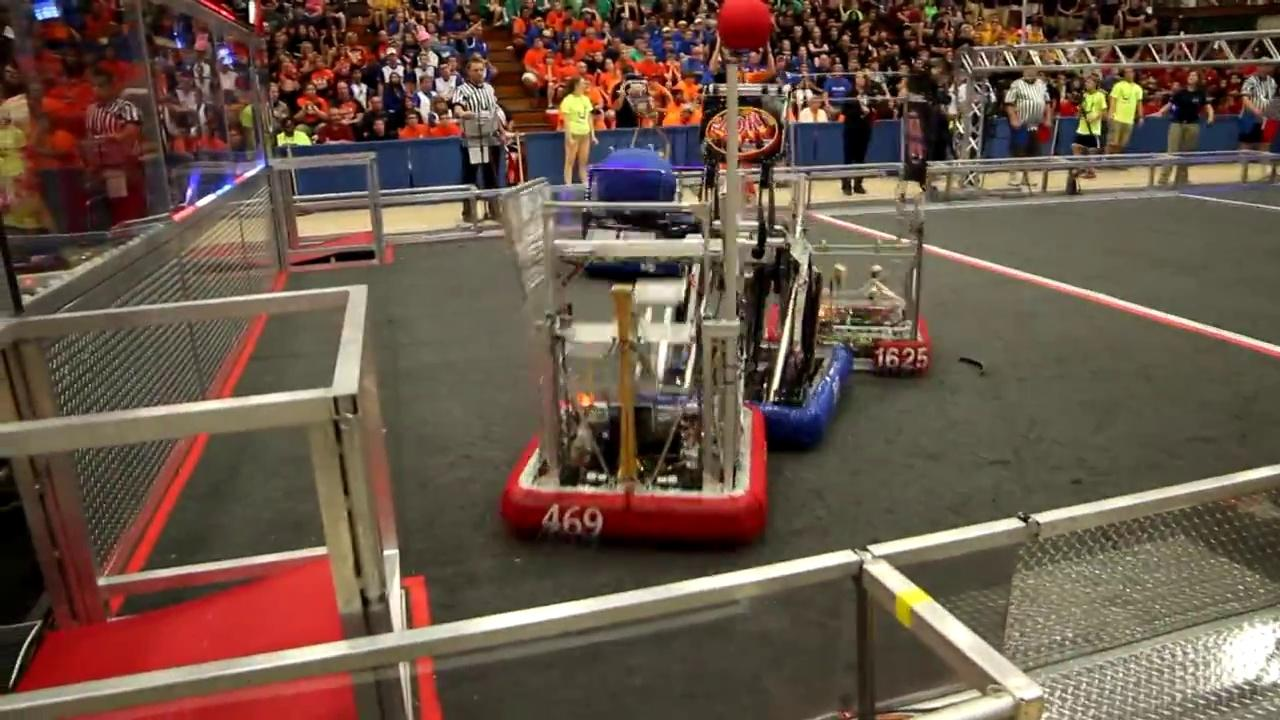robot: (494, 172, 769, 544), (627, 152, 854, 451), (763, 211, 943, 384), (579, 143, 695, 283)
